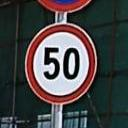speed_limit_50: (28, 24, 97, 104)
